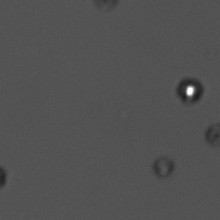Dead Cell: (152, 153, 176, 180), (203, 122, 220, 144)
Living Cell: (173, 74, 205, 107)
